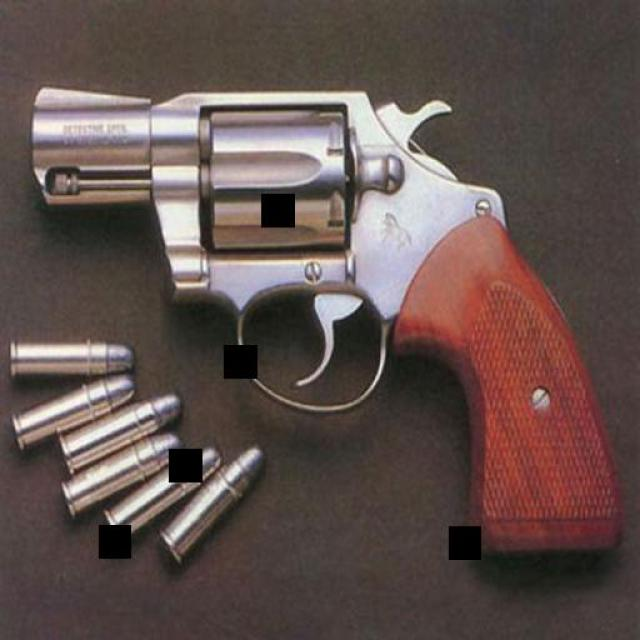gun: (27, 81, 622, 561)
